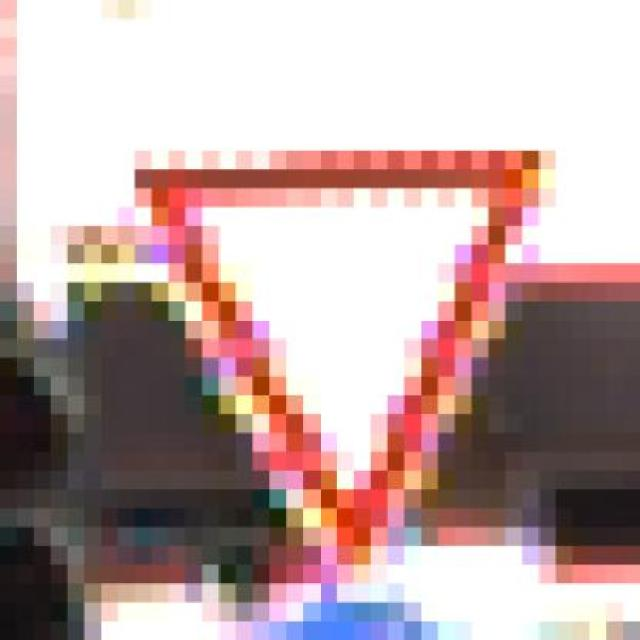Give Way: (84, 112, 590, 565)
